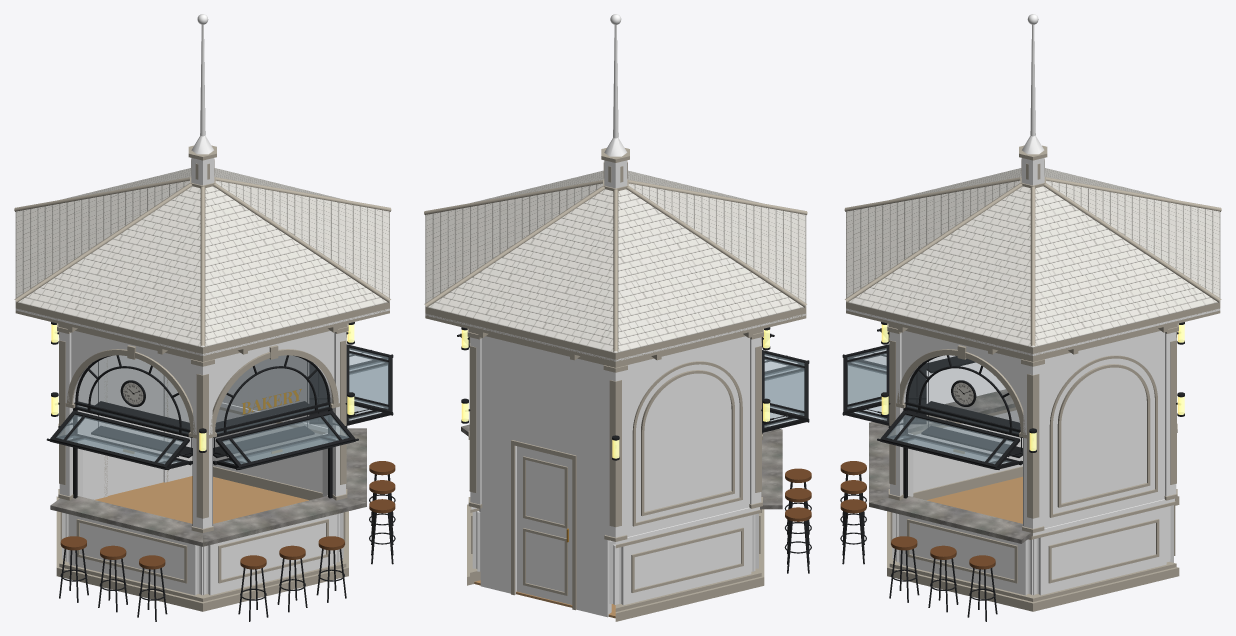
3 renders of one model, left to right at view 1: azimuth 30°, elevation 25°; view 2: azimuth 150°, elevation 25°; view 3: azimuth 270°, elevation 25°, orthographic.
Visible parts, largest first — view 1: Kiosk_Vom; view 2: Kiosk_Vom; view 3: Kiosk_Vom.
Boxes of the visible parts, <box> form: Kiosk_Vom: <box>14,14,395,621</box>; Kiosk_Vom: <box>424,14,811,621</box>; Kiosk_Vom: <box>840,14,1221,621</box>.
Bounding box in the file's own units: 5.61 × 7.5 × 4.93.
14 materials, 4 textured.
